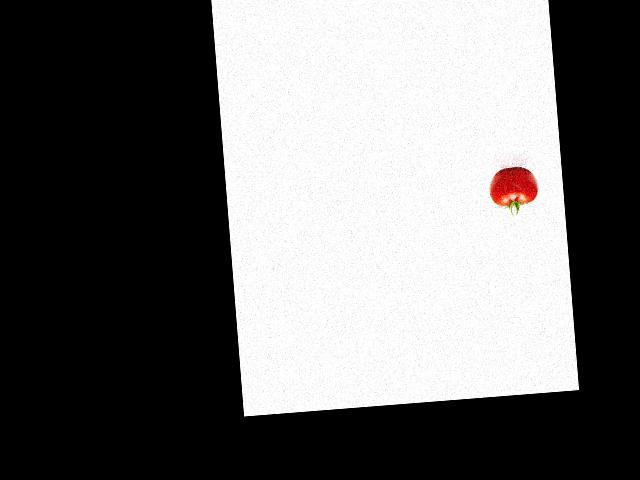tomato: (487, 165, 540, 207)
